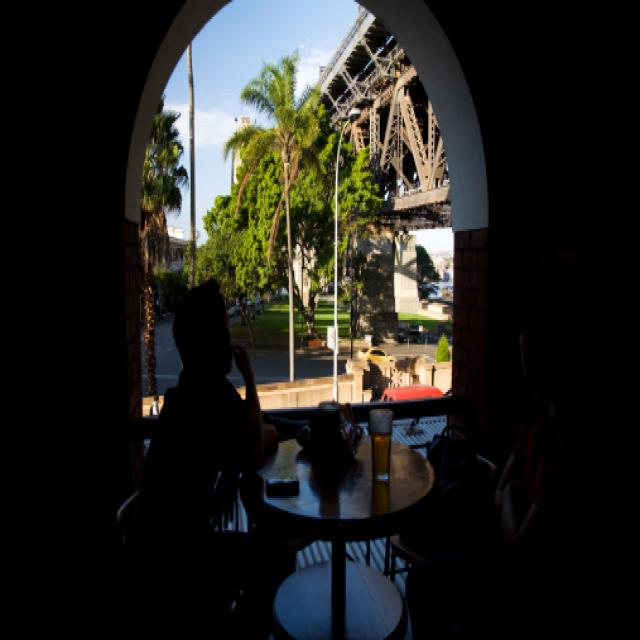Cup: (363, 390, 402, 484)
People: (117, 259, 246, 575)
Table: (239, 394, 434, 640)
